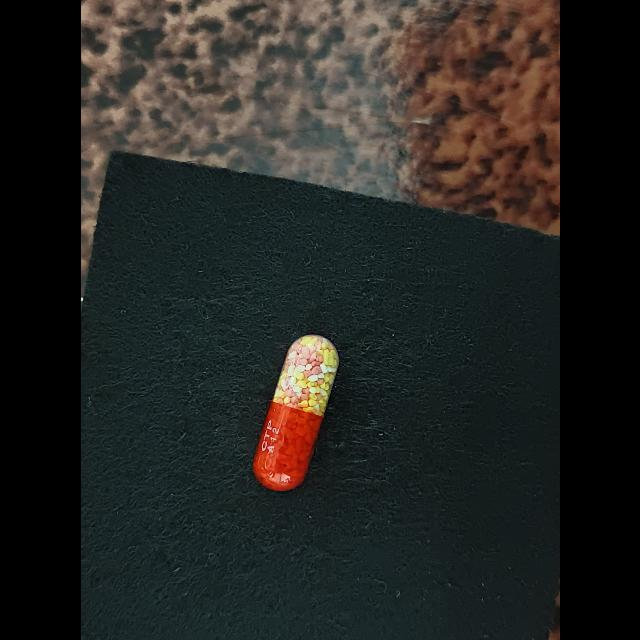Intact Capsule: (252, 334, 338, 491)
